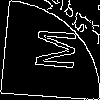M: (25, 25, 77, 72)
